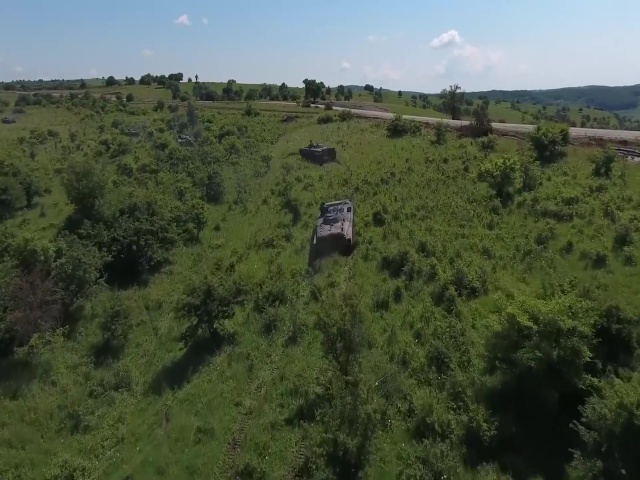vehicle: (311, 197, 355, 256), (299, 141, 338, 165)
